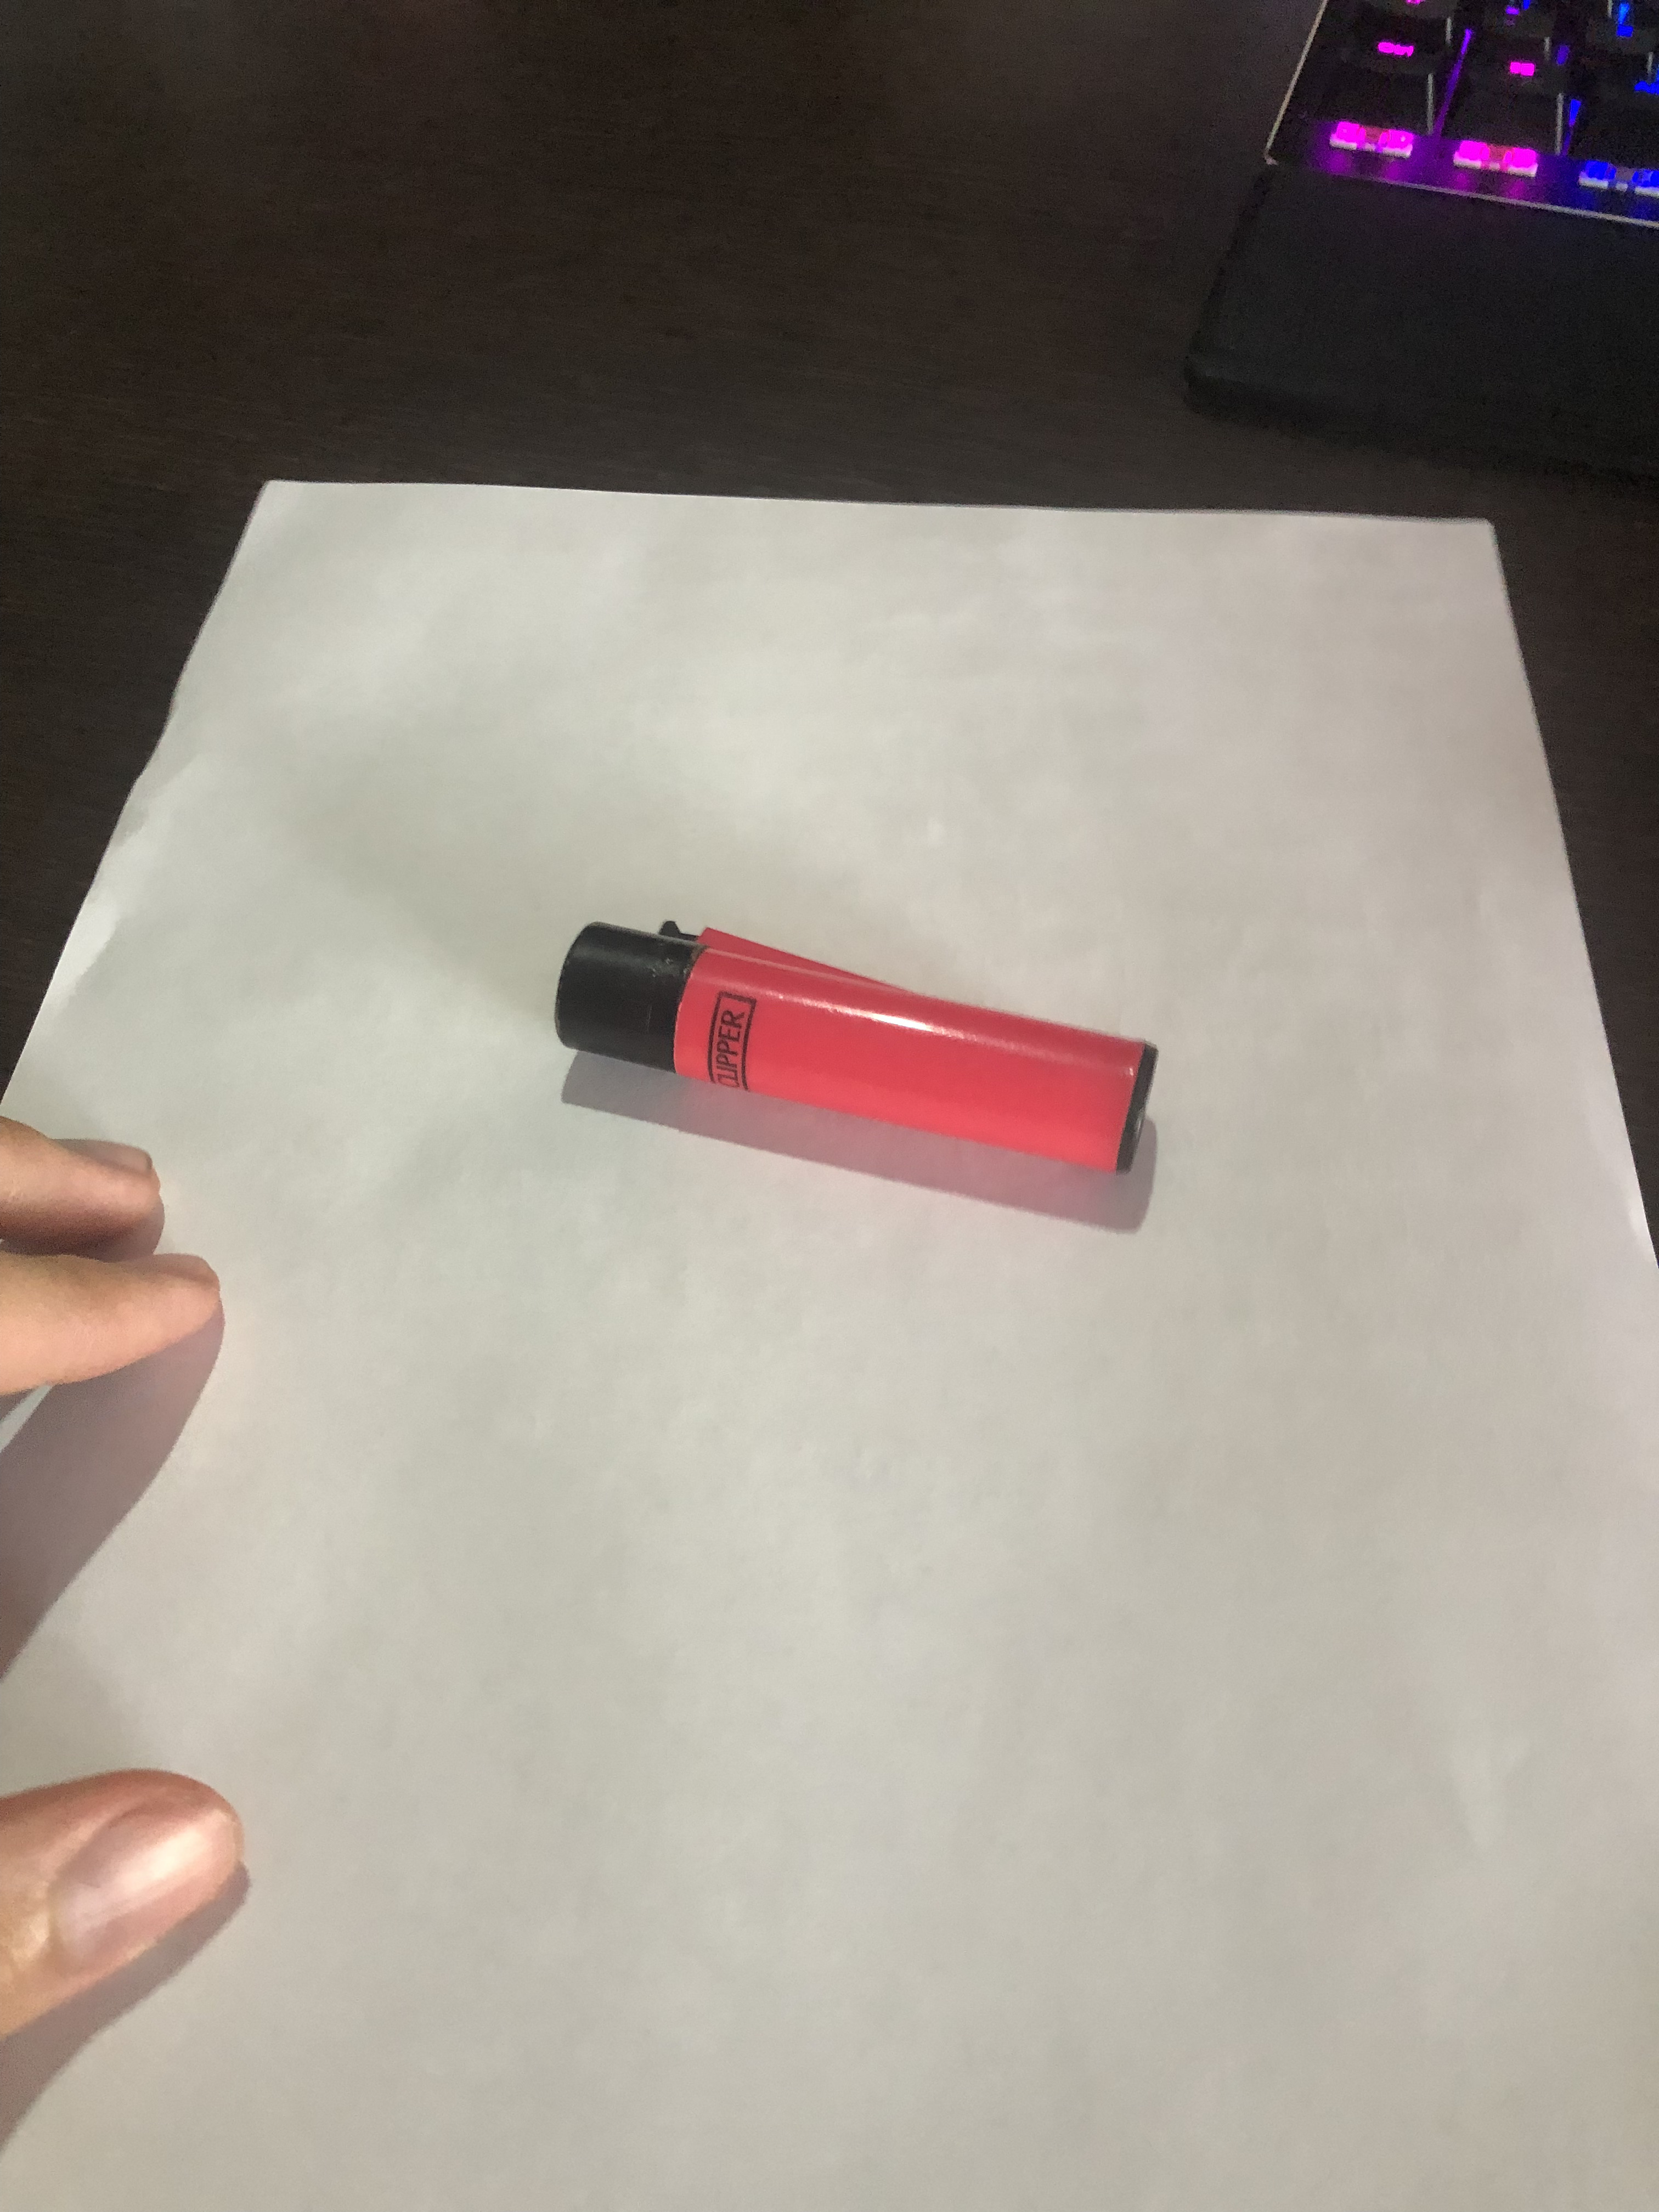Mechero: (525, 902, 1220, 1261)
